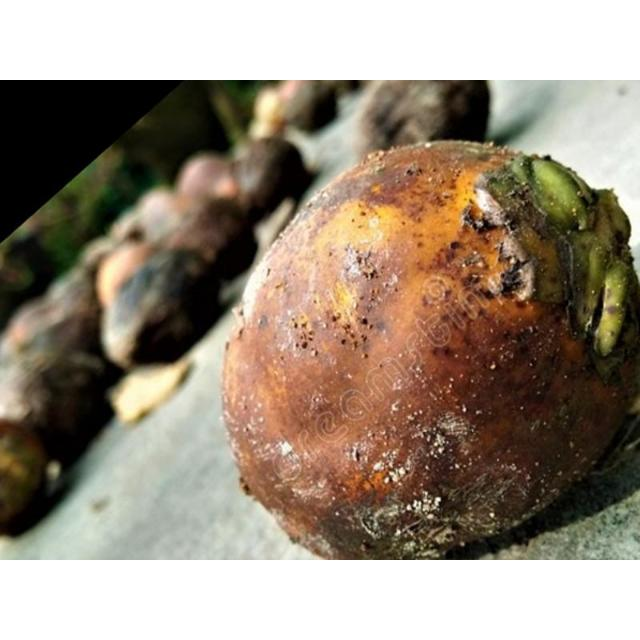damaged: (223, 141, 639, 559)
